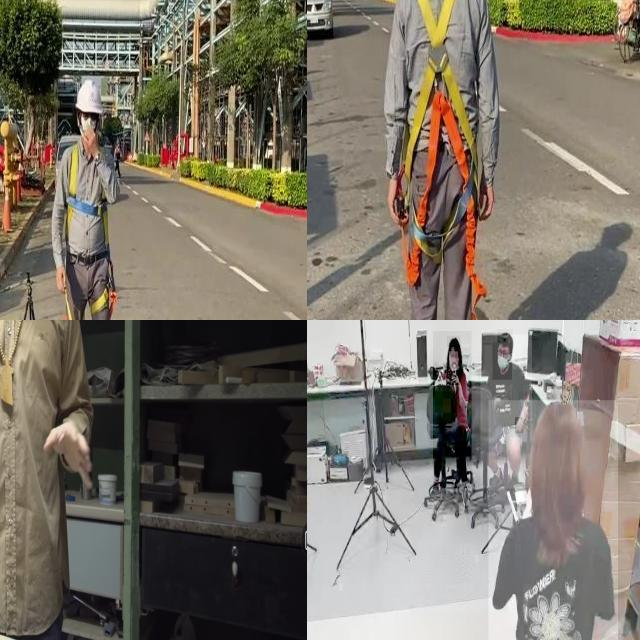Harness: (392, 0, 487, 267), (66, 145, 108, 250)
face_mask: (492, 342, 512, 380)
face_nomask: (449, 352, 459, 368)
hand_noglove: (515, 417, 523, 434), (452, 370, 460, 386)
head_nohelmet: (532, 399, 584, 446), (498, 329, 514, 343), (447, 336, 461, 348)
person: (488, 400, 618, 640), (0, 320, 93, 640), (480, 334, 532, 488), (433, 331, 472, 489)
